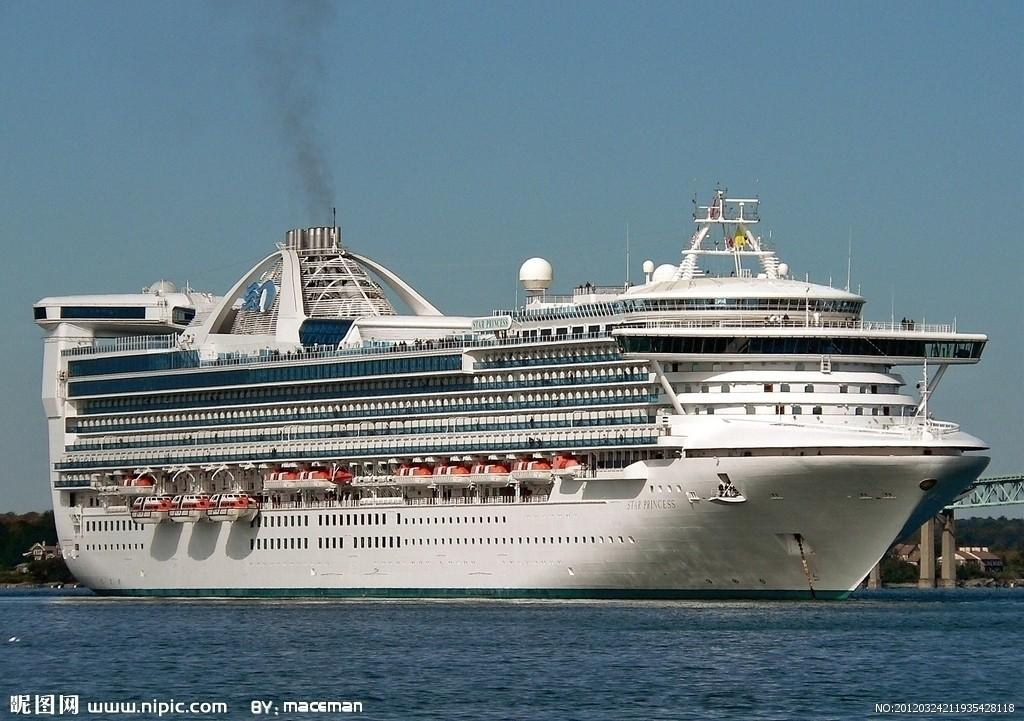youlun: (27, 184, 995, 606)
